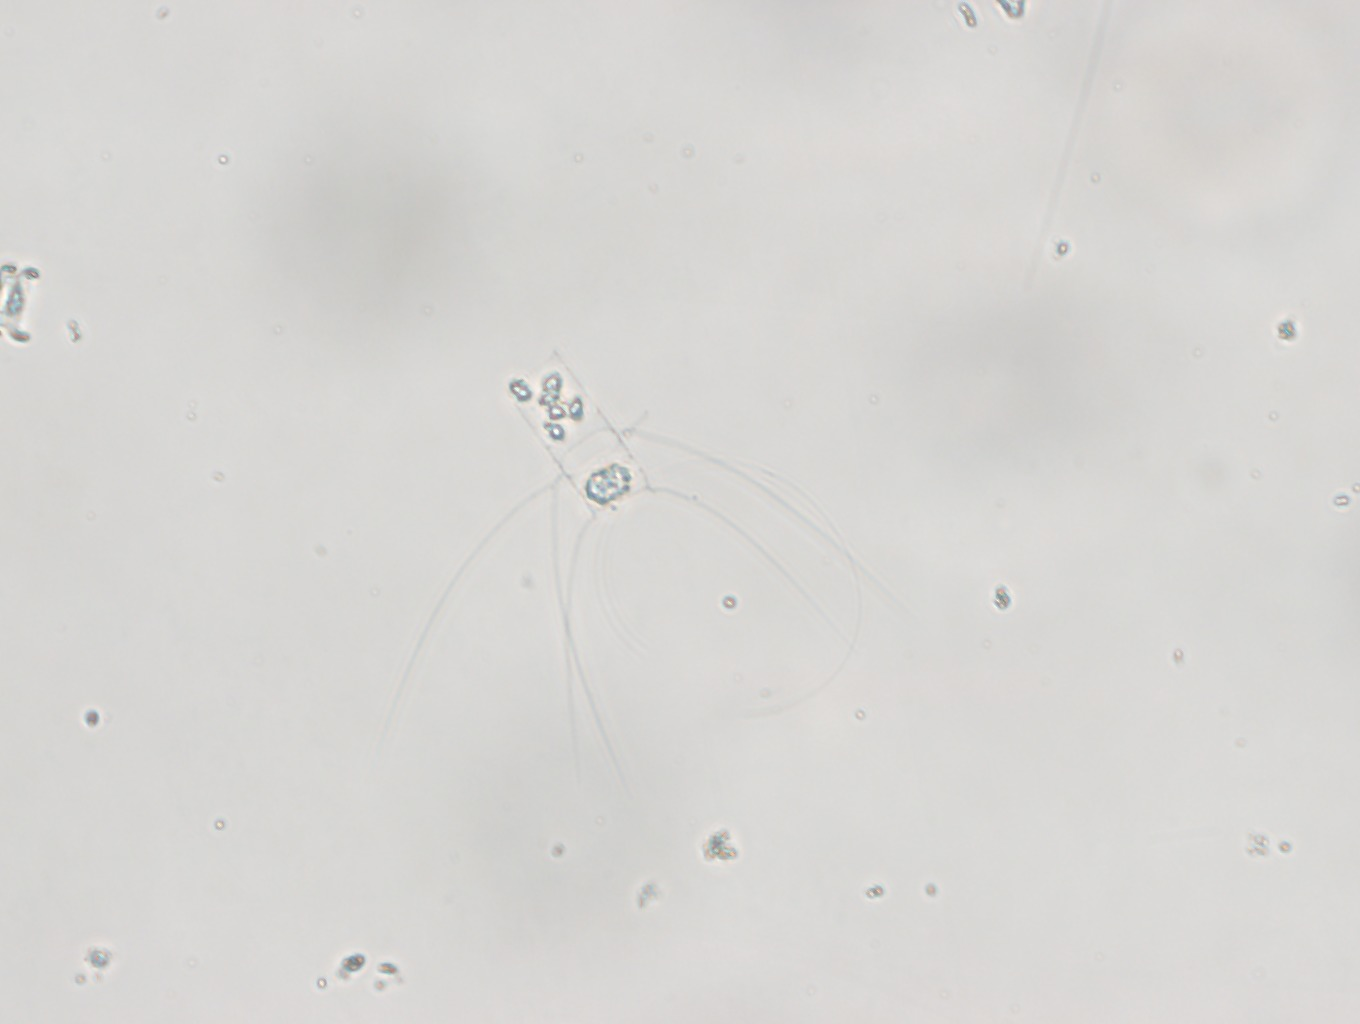chaetoceros: (373, 349, 919, 787)
